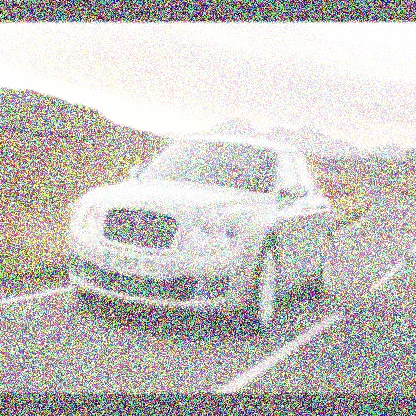Vehicle: (66, 132, 337, 342)
